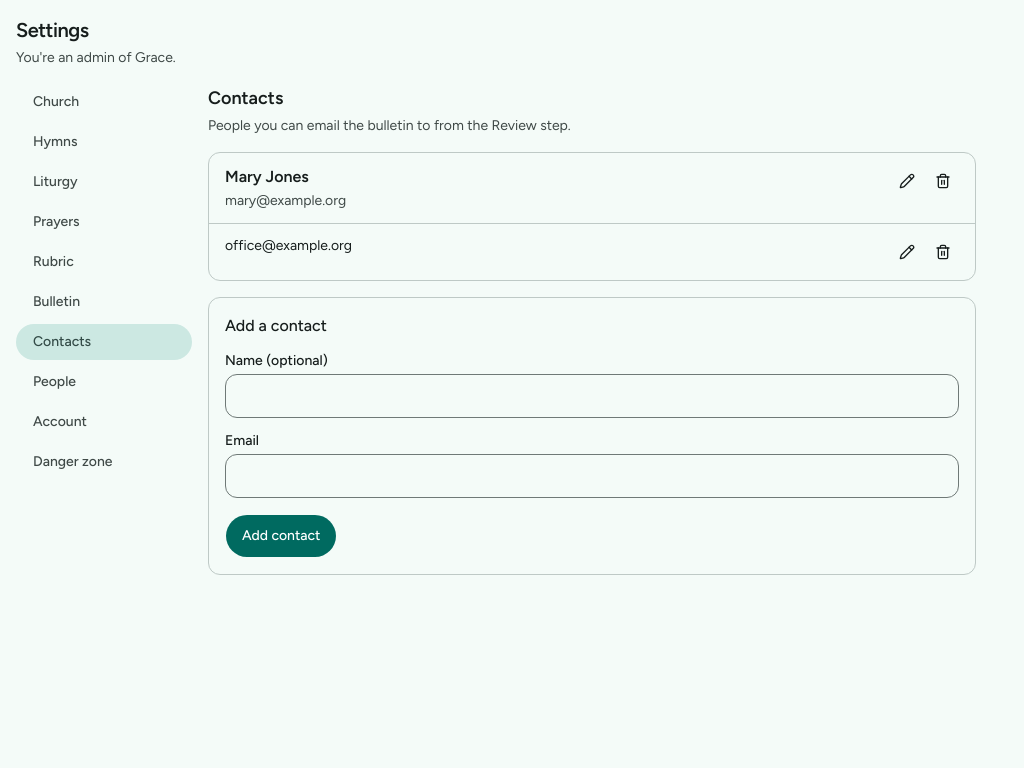
Test: Settings → Contacts (slice 5b-1) › asks before deleting, then removes the row; focus goes back to the bin on Cancel, to Name after a delete
Click the button named "Delete office@example.org": (943, 252) [927,236,959,268]
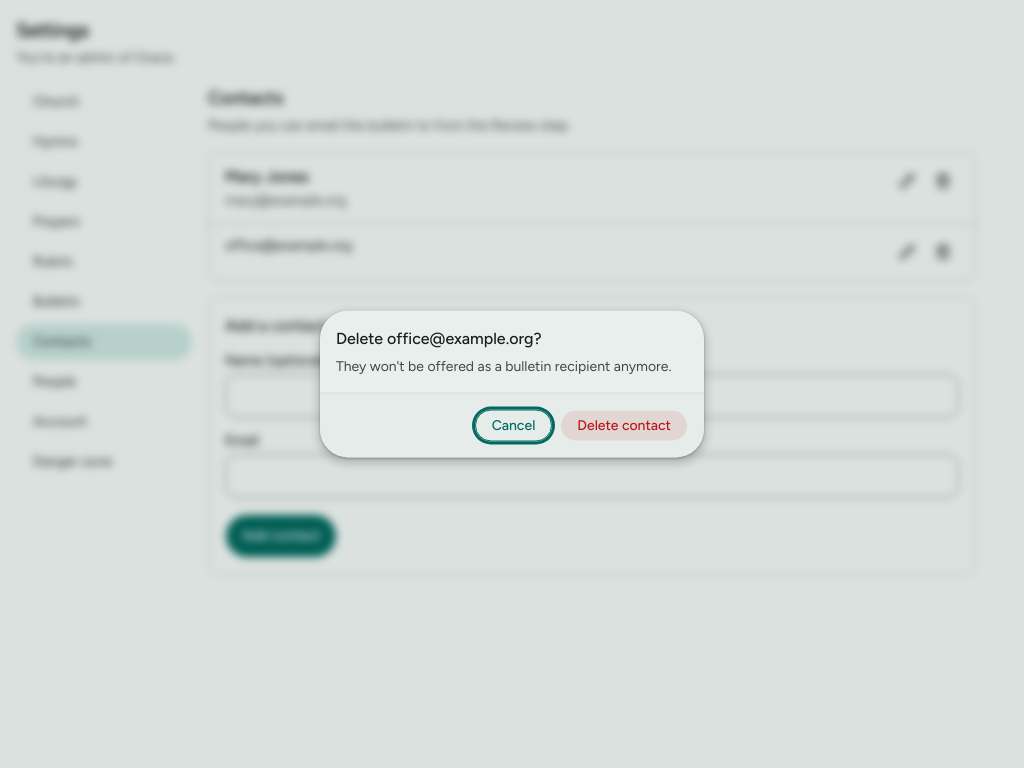
Click the button "Cancel": (514, 426) [475,410,552,442]
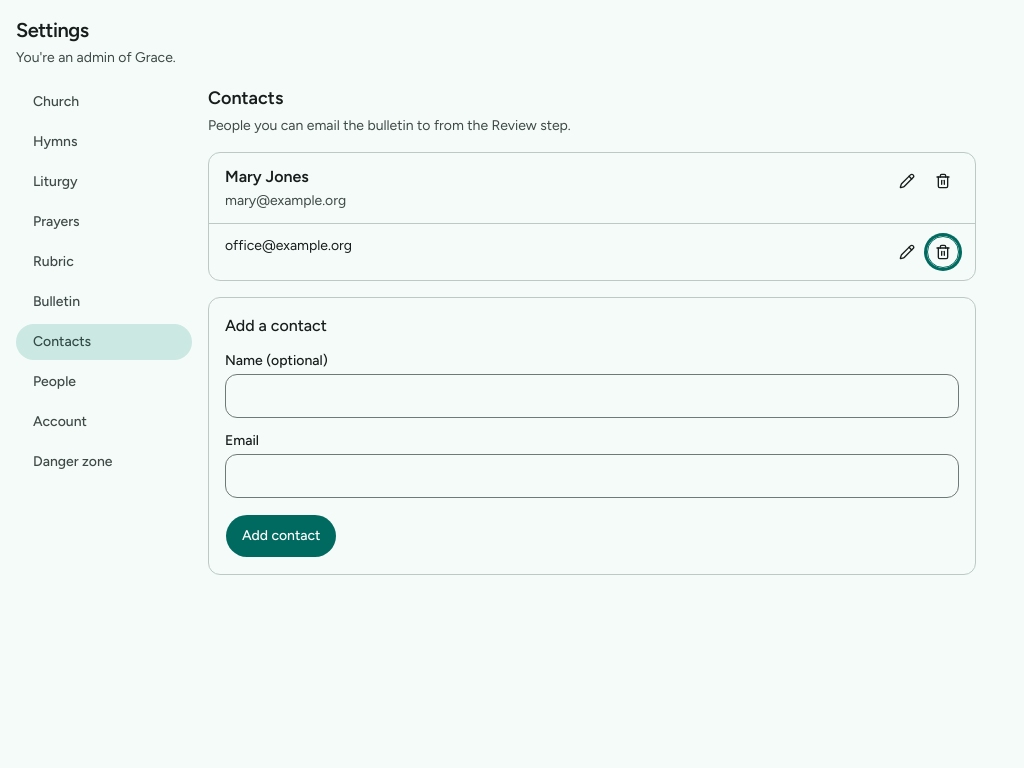
Now the dialog is gone
Click the button named "Delete office@example.org": (943, 252) [927,236,959,268]
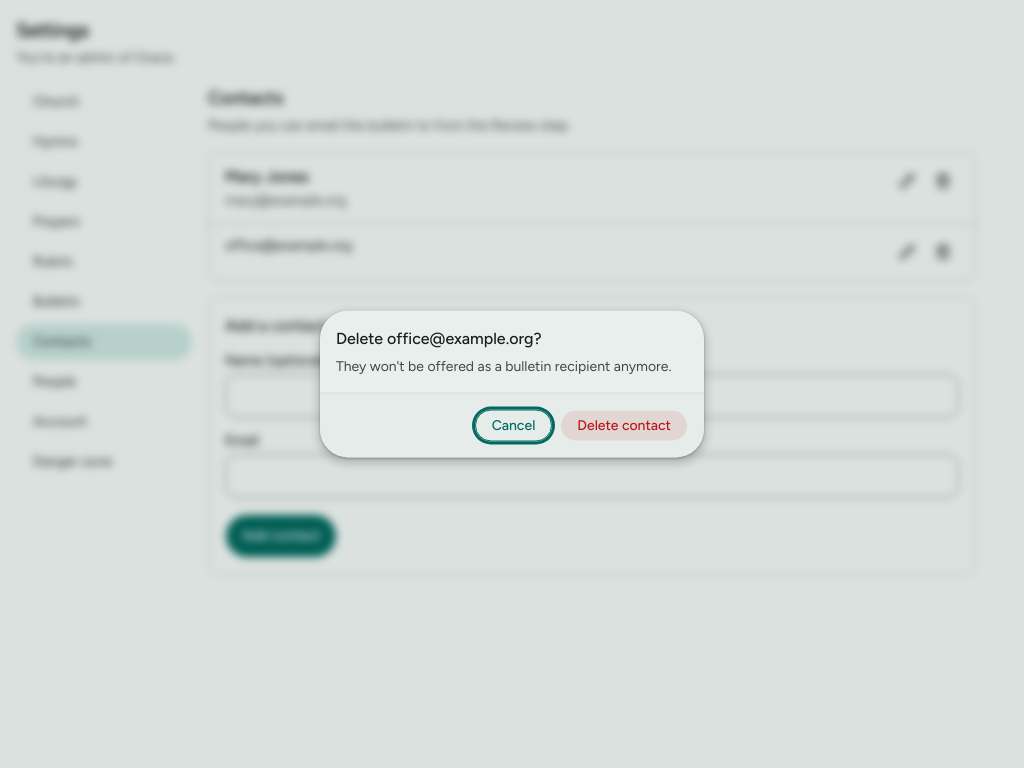
Now the dialog "Delete office@example.org?" shows "They won't be offered as a bulletin recipient anymore.", box [336,358,671,374]
Click the button "Delete contact": (624, 426) [560,410,688,442]
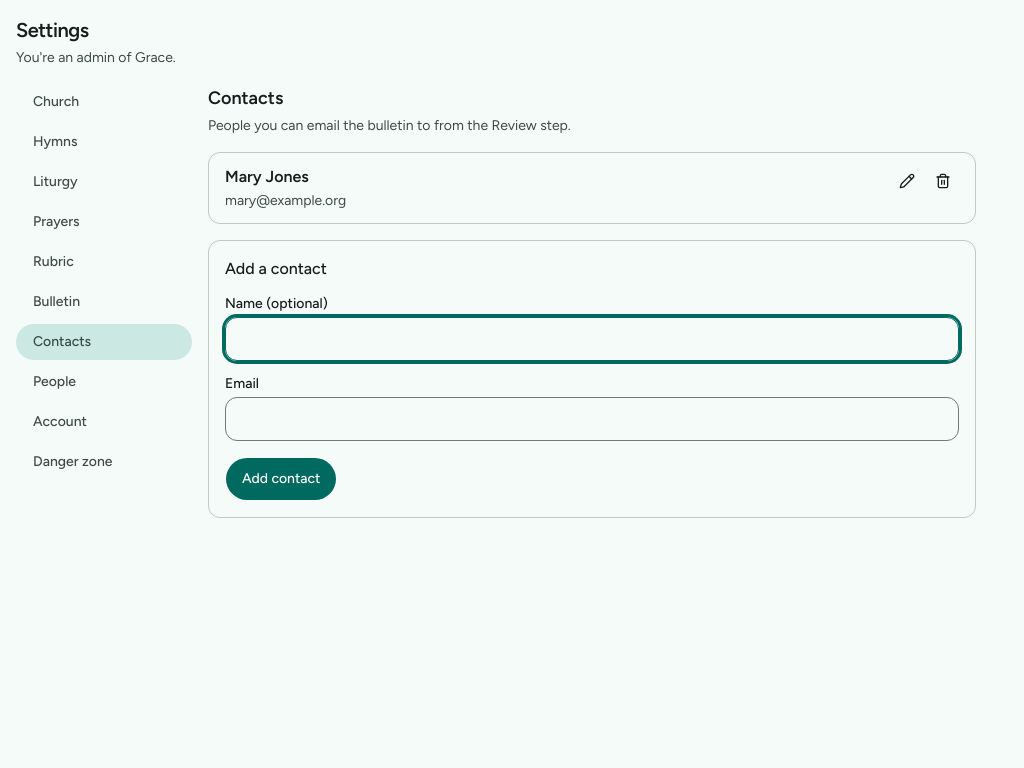
Now the text "office@example.org" is gone
